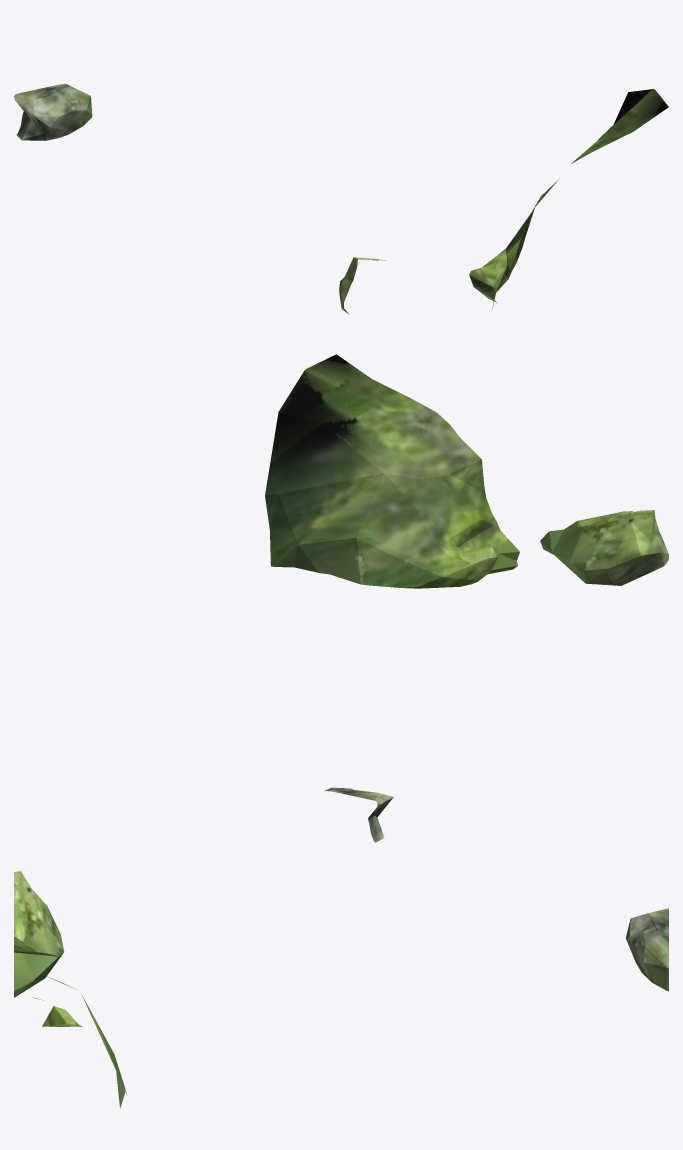
The picture shows the model from 3 angles, top to bottom: view 1: azimuth 30°, elevation 25°; view 2: azimuth 150°, elevation 25°; view 3: azimuth 270°, elevation 25°; orthographic projection. The views are drawn at different scales.
Size of the model in its own units: 17.49 by 7.89 by 26.11.
1 material, 1 textured.
